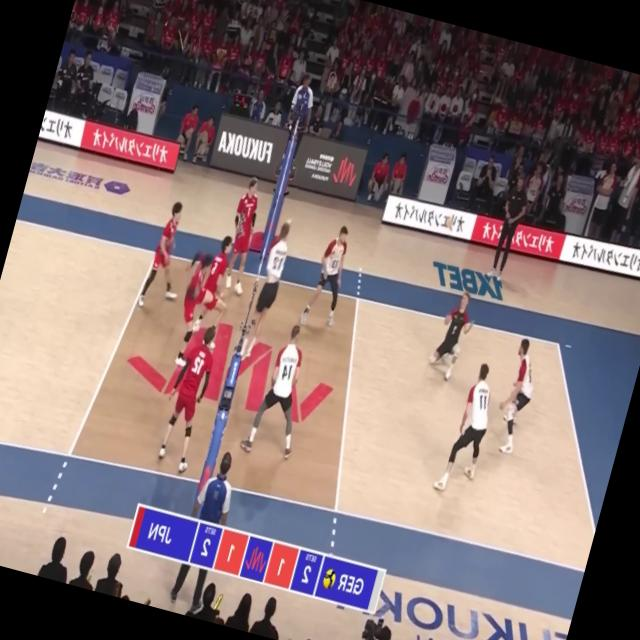referee: (166, 444, 245, 614)
team_one: (237, 315, 324, 466), (432, 359, 501, 499), (236, 218, 297, 364), (486, 335, 544, 456), (298, 220, 358, 329), (424, 288, 478, 382)
team_two: (150, 318, 222, 474), (134, 198, 200, 317), (163, 251, 222, 371), (215, 174, 272, 296), (188, 231, 245, 352)
